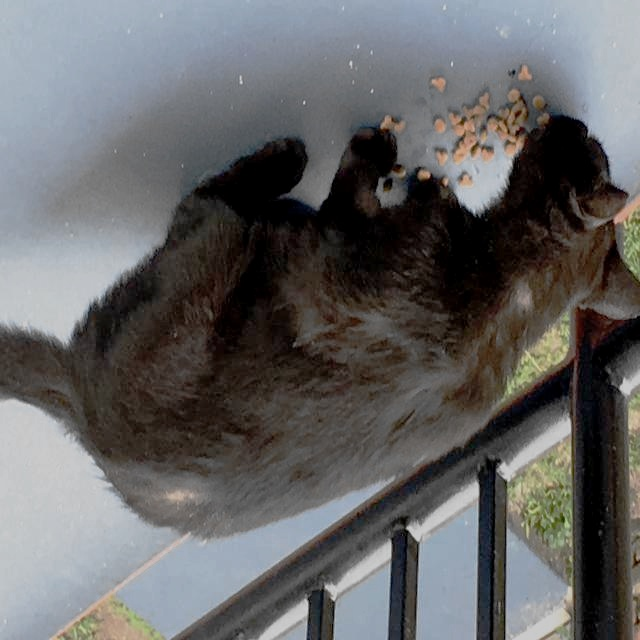hairloss: (155, 485, 206, 513), (519, 286, 531, 318)
